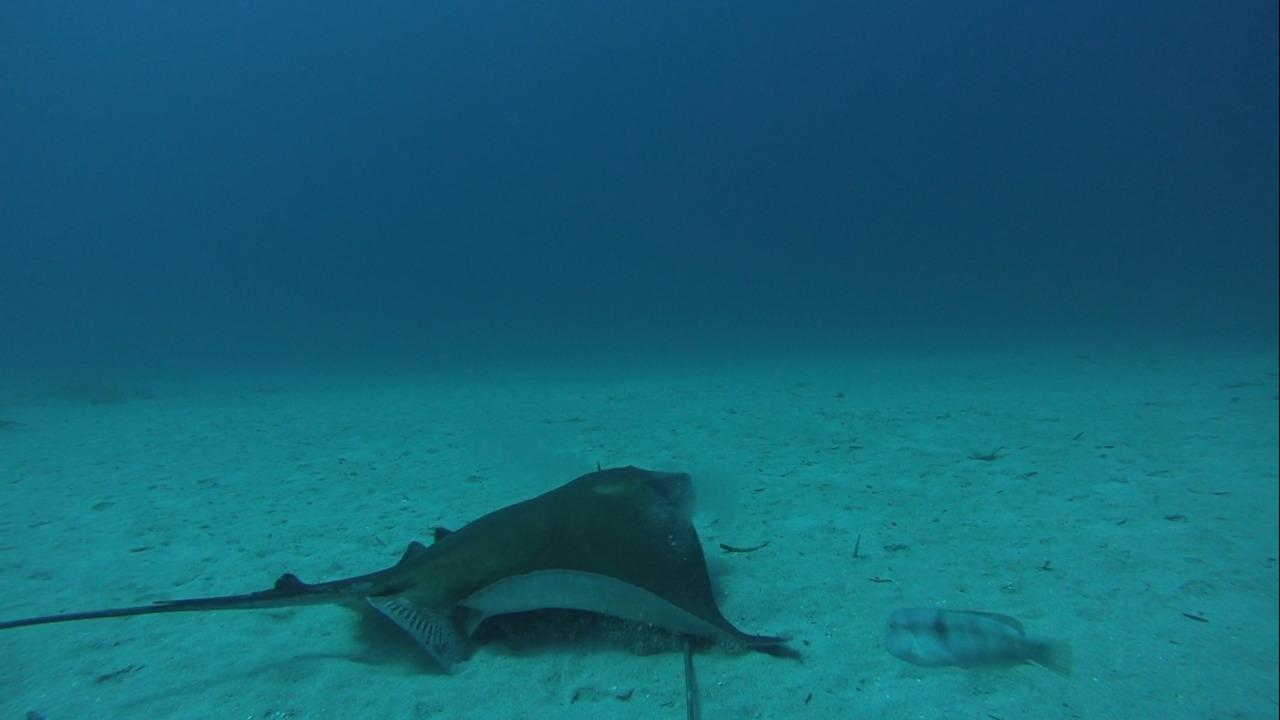myliobatis: (6, 461, 792, 675)
raor: (877, 606, 1065, 672)
